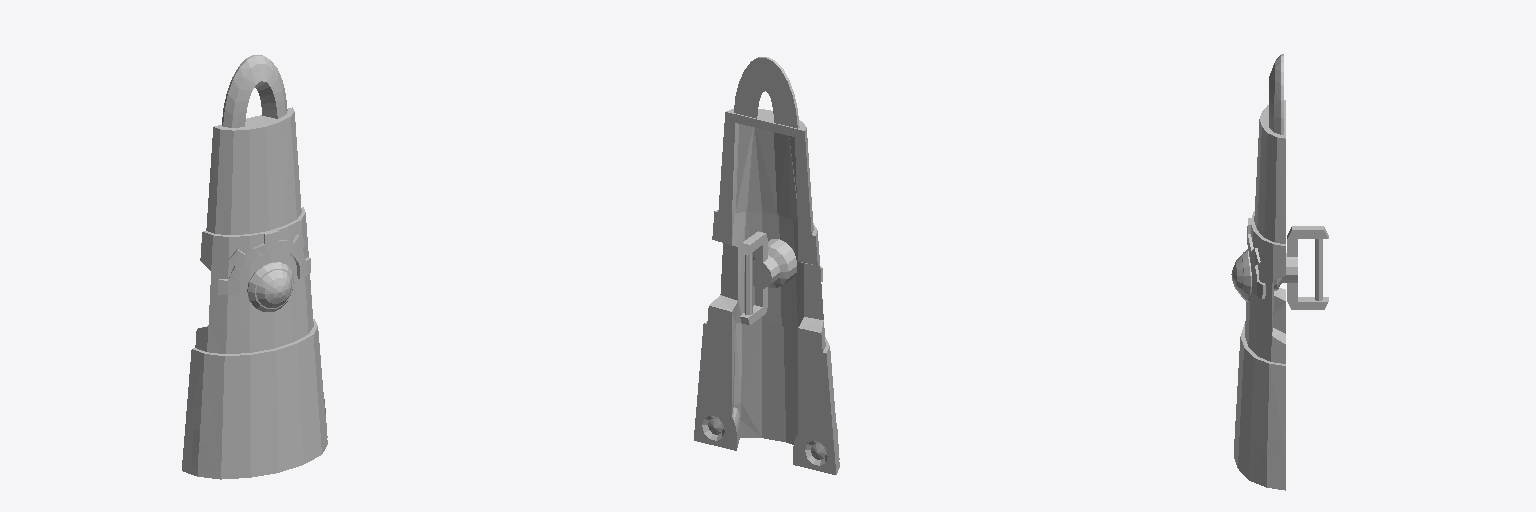
The model's file is Bit Shield.obj.
3 views of the same model, side by side, from view 1: azimuth 30°, elevation 25°; view 2: azimuth 150°, elevation 25°; view 3: azimuth 270°, elevation 25° (orthographic).
Parts seen in each view (by area): view 1: ShieldMesh_m_#182755; view 2: ShieldMesh_m_#182755; view 3: ShieldMesh_m_#182755.
Boxes of the visible parts, <box> form: ShieldMesh_m_#182755: <box>182,55,327,479</box>; ShieldMesh_m_#182755: <box>694,57,839,474</box>; ShieldMesh_m_#182755: <box>1231,54,1328,490</box>.
Size of the model in its own units: 0.6708 by 1.79 by 0.3955.